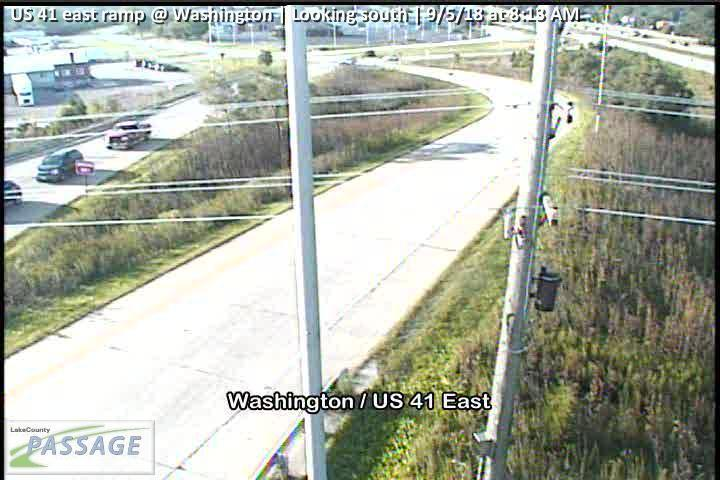SUV: (35, 149, 82, 182)
Truck: (105, 120, 151, 149)
